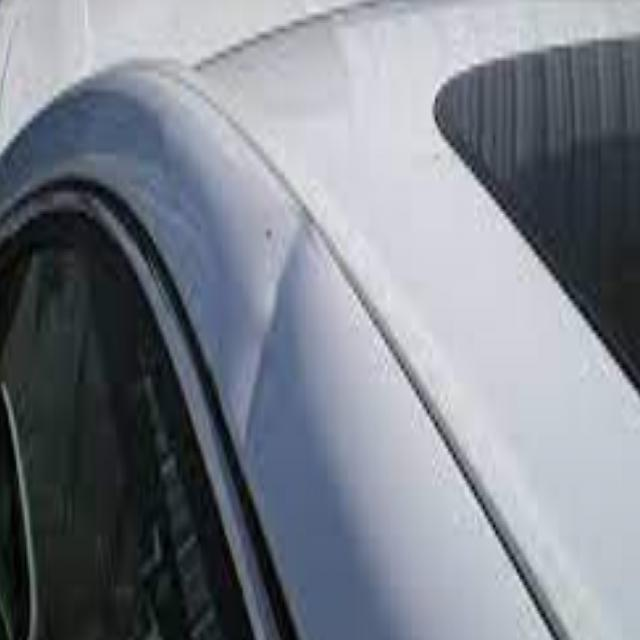dents: (229, 169, 338, 460)
